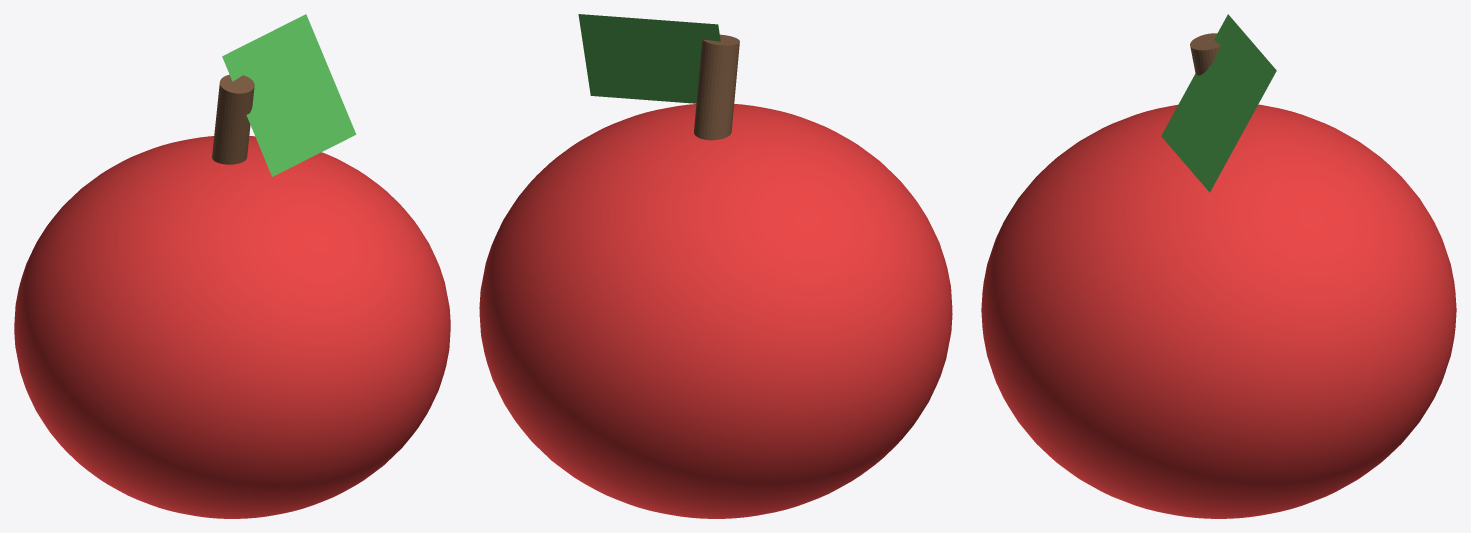
The model's file is fruit.glb.
3 renders of one model, left to right at view 1: azimuth 30°, elevation 25°; view 2: azimuth 150°, elevation 25°; view 3: azimuth 270°, elevation 25°, orthographic. The views are drawn at different scales.
Parts seen in each view (by area): view 1: Сфера, Плоскость, Цилиндр; view 2: Сфера, Плоскость, Цилиндр; view 3: Сфера, Плоскость, Цилиндр.
Part boxes in pixels (<box>): Сфера: <box>14,136,450,518</box>; Плоскость: <box>222,14,356,176</box>; Цилиндр: <box>212,74,254,164</box>; Сфера: <box>479,104,952,518</box>; Плоскость: <box>578,14,720,103</box>; Цилиндр: <box>694,34,739,140</box>; Сфера: <box>981,104,1456,518</box>; Плоскость: <box>1161,14,1276,192</box>; Цилиндр: <box>1190,33,1220,75</box>.
Size of the model in its own units: 2 by 2.21 by 2.
